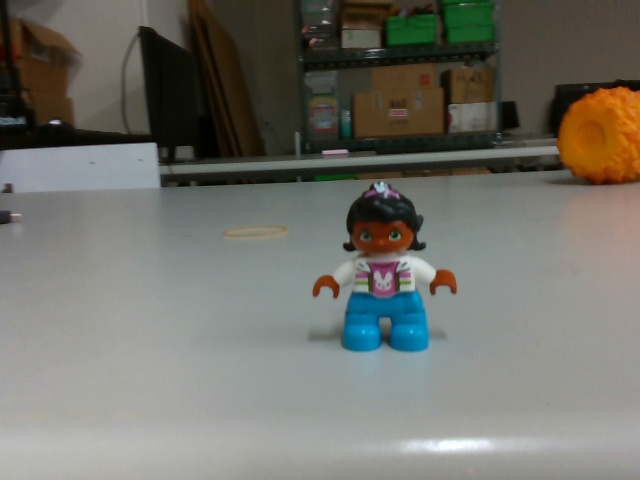people: (312, 178, 460, 362)
